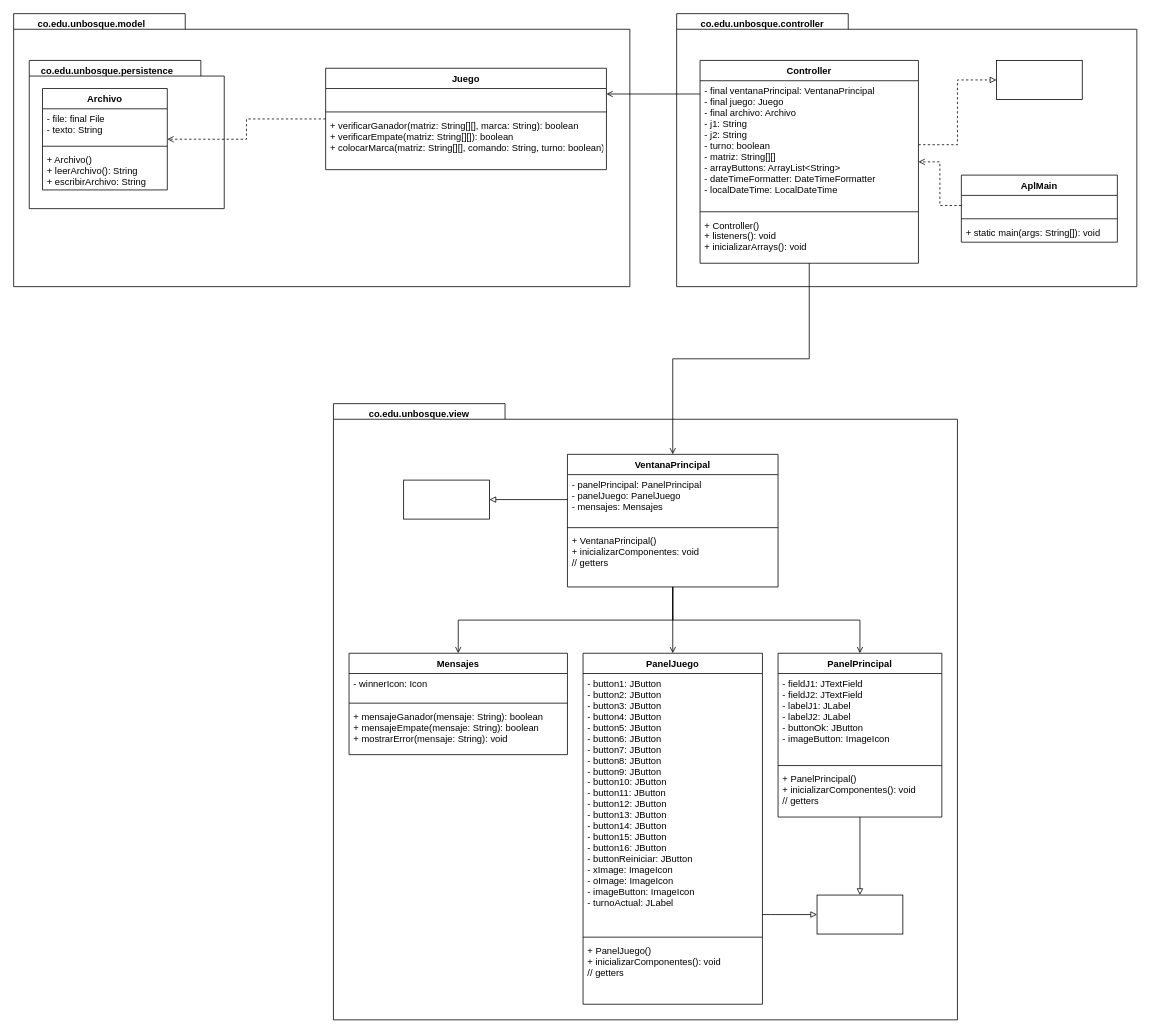
This 1151x1034 diagram has some shape labels left out. The centre of each missing label's shape, as x and y in pixels:
"JFrame" belongs at point 446,499.
"JPanel" belongs at point 859,914.
"«interface» ActionListener" belongs at point 1039,79.
